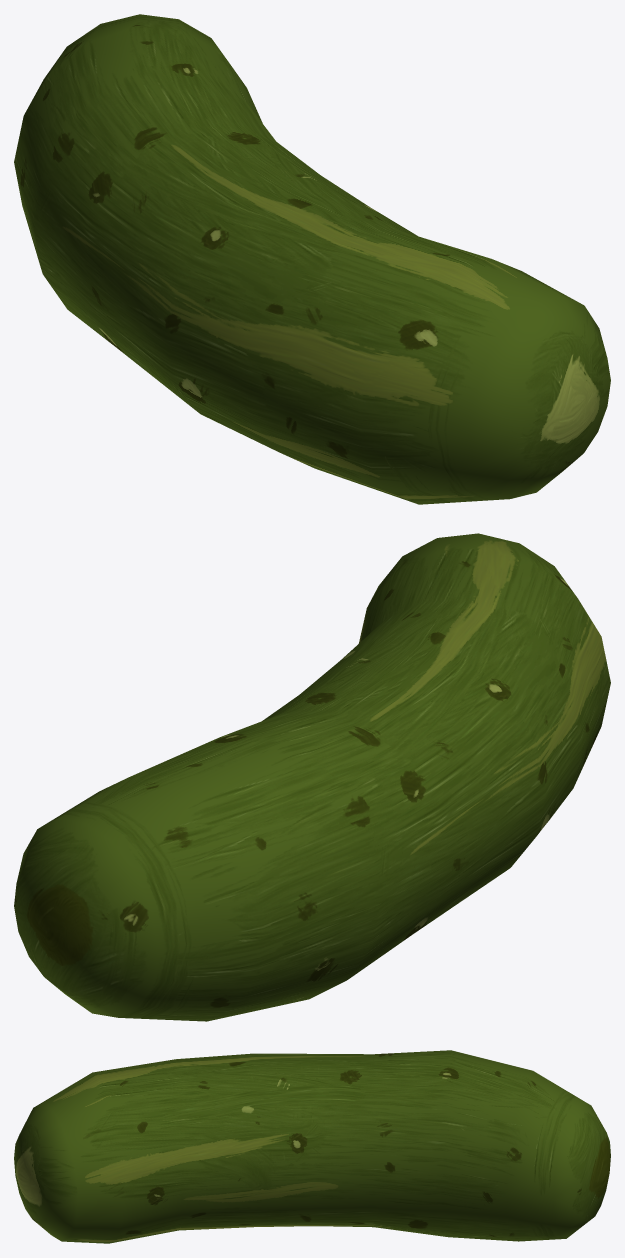
The model's file is Gerkin.gltf.
3 renders of one model, top to bottom at view 1: azimuth 30°, elevation 25°; view 2: azimuth 150°, elevation 25°; view 3: azimuth 270°, elevation 25°, orthographic. The views are drawn at different scales.
Parts seen in each view (by area): view 1: gerkin1; view 2: gerkin1; view 3: gerkin1.
Part boxes in pixels (<box>): gerkin1: <box>14,14,610,504</box>; gerkin1: <box>14,533,610,1021</box>; gerkin1: <box>14,1050,610,1243</box>.
Bounding box in the file's own units: 0.0449 × 0.0361 × 0.1137.
1 material, 1 textured.
